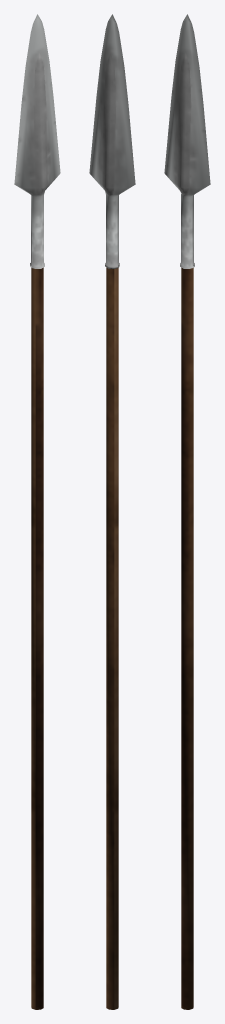
Rendered from spear.glb.
3 views of the same model, side by side, from view 1: azimuth 30°, elevation 25°; view 2: azimuth 150°, elevation 25°; view 3: azimuth 330°, elevation 25° (orthographic).
Parts seen in each view (by area): view 1: Spear; view 2: Spear; view 3: Spear.
Part boxes in pixels (<box>): Spear: <box>14,14,60,1009</box>; Spear: <box>89,14,135,1009</box>; Spear: <box>164,14,210,1009</box>.
Size of the model in its own units: 0.0713 by 1.47 by 0.0326.
1 material, 1 textured.
